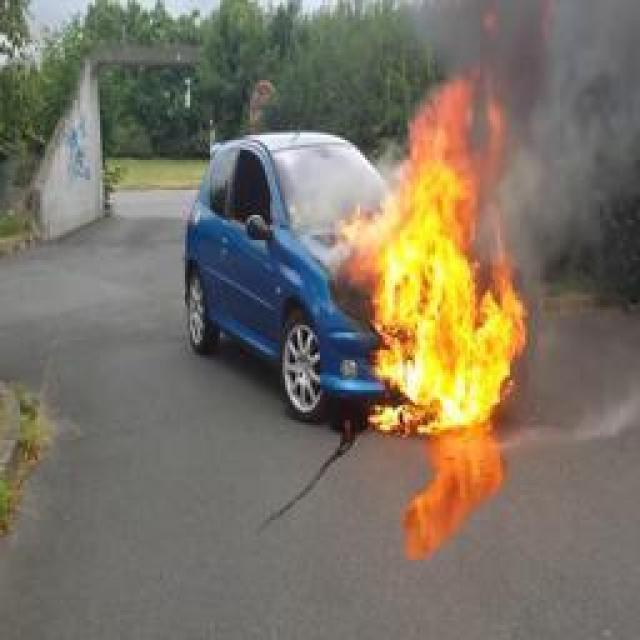Fire: (344, 76, 534, 432)
